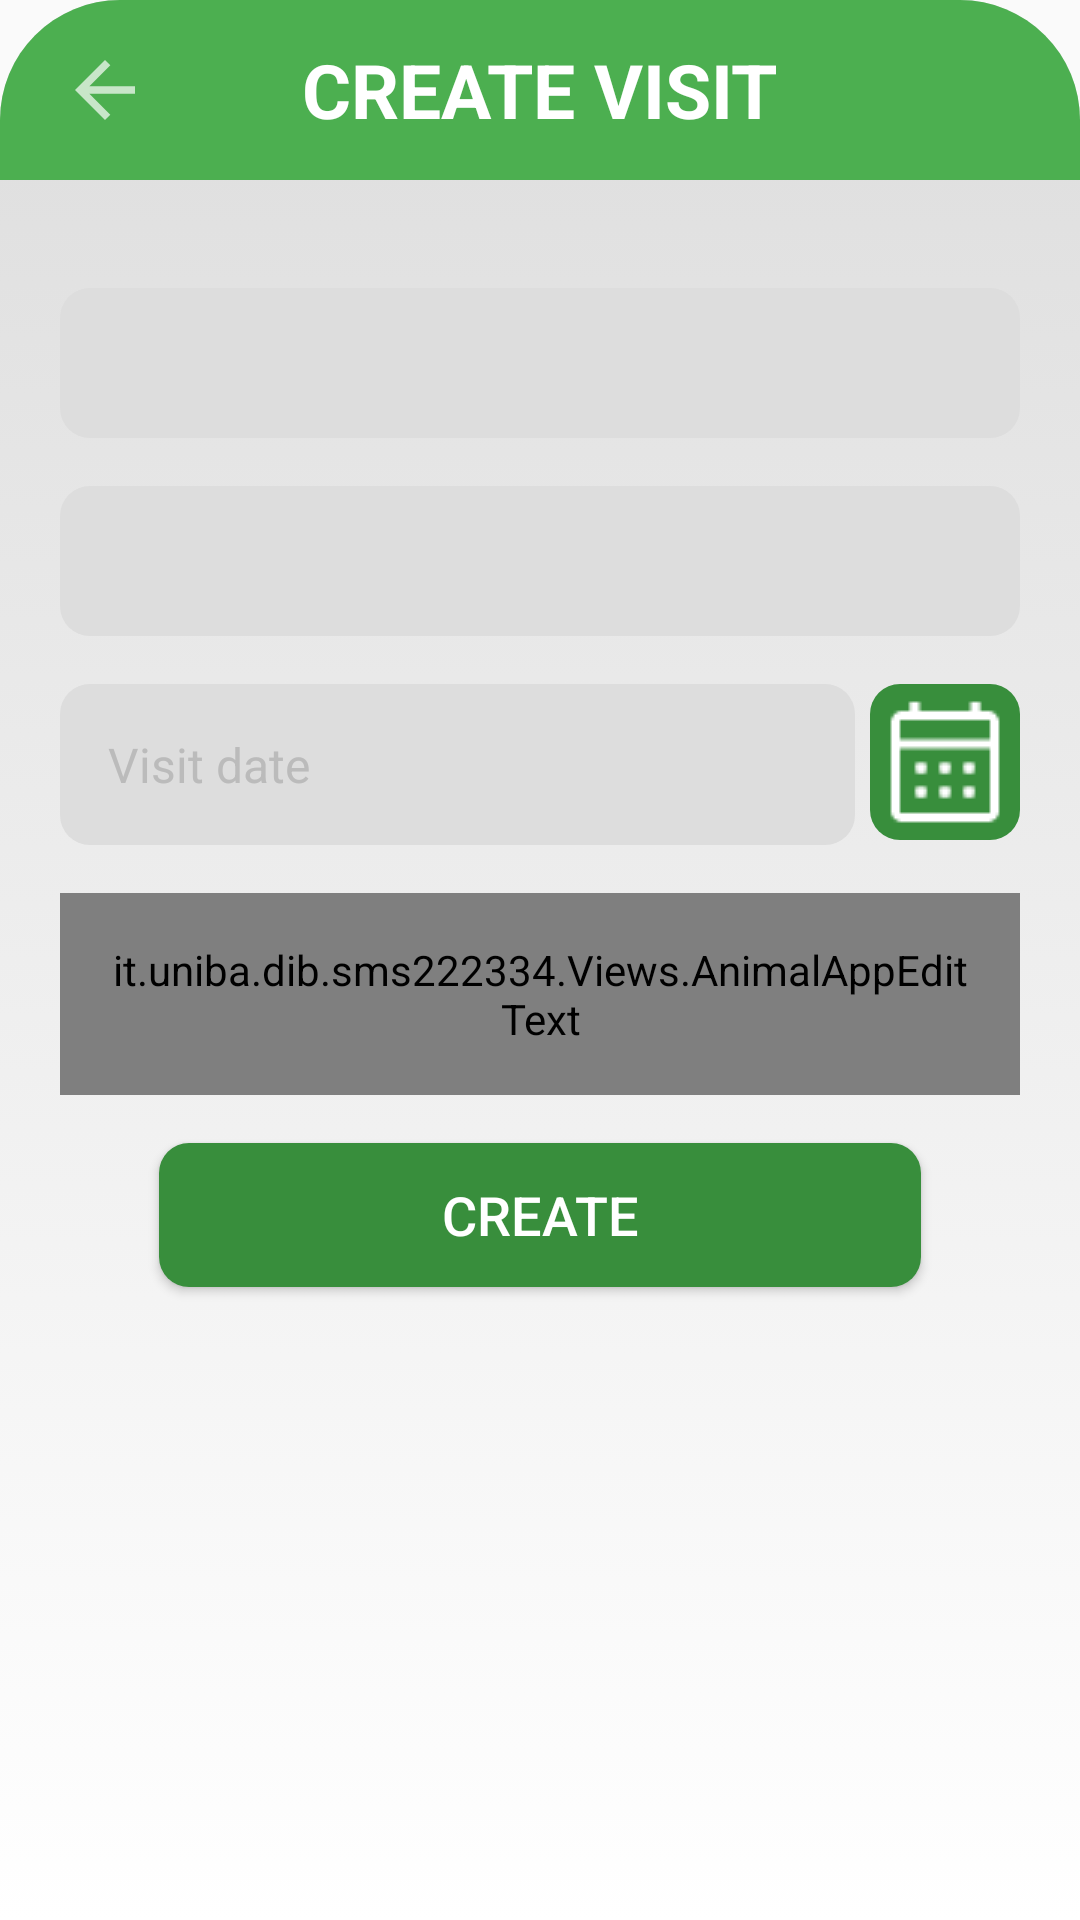

Icon bounding boxes for this 1080*1920 phone screenshot, format (x1, y1, x2, y2):
arrow back: (75, 60, 135, 120)
calendar: (870, 684, 1020, 840)
